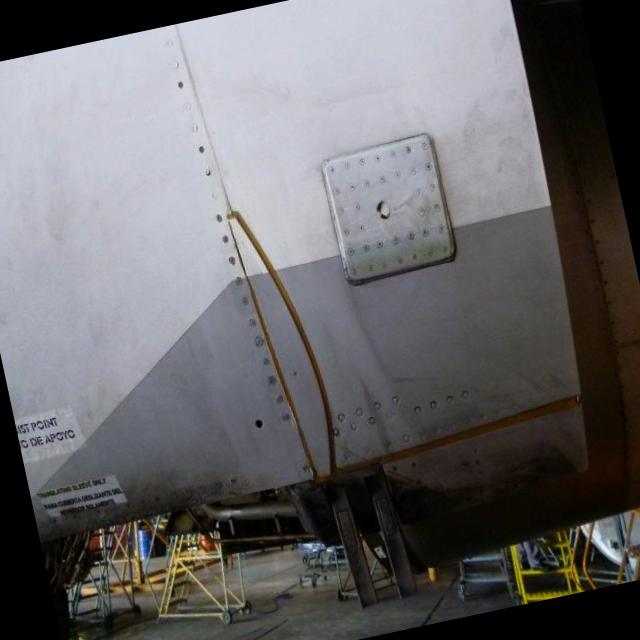Missing Fastener: (248, 418, 269, 434)
